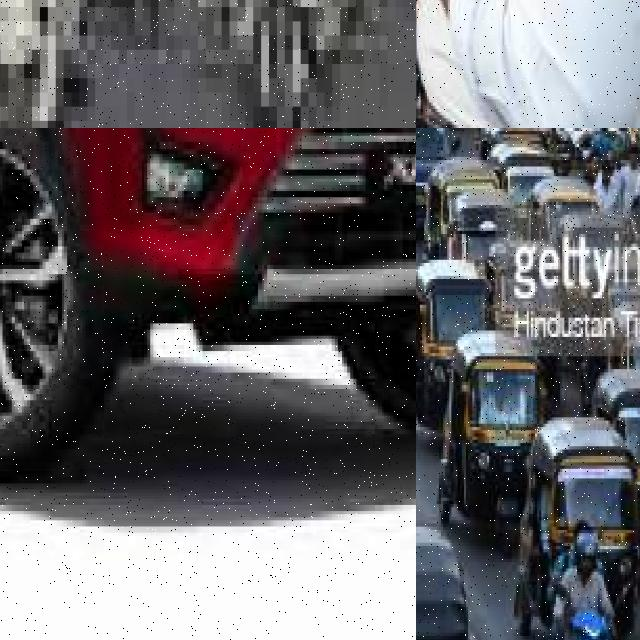bike: (229, 0, 340, 128), (416, 0, 502, 128), (0, 0, 79, 128), (545, 600, 639, 640)
car: (0, 128, 416, 542)
